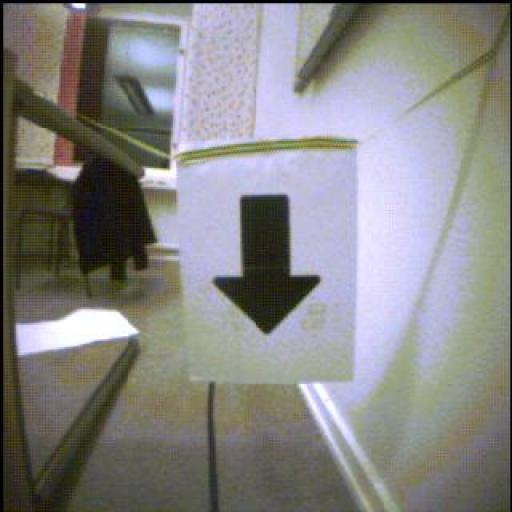Arrow: (214, 197, 321, 336)
